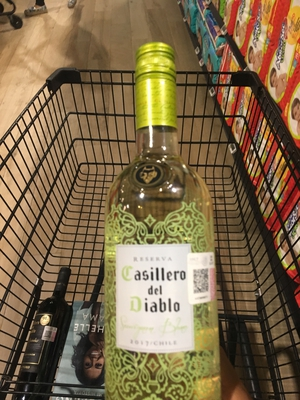casillero del diablo sauvignon blanc: (100, 49, 227, 400)
